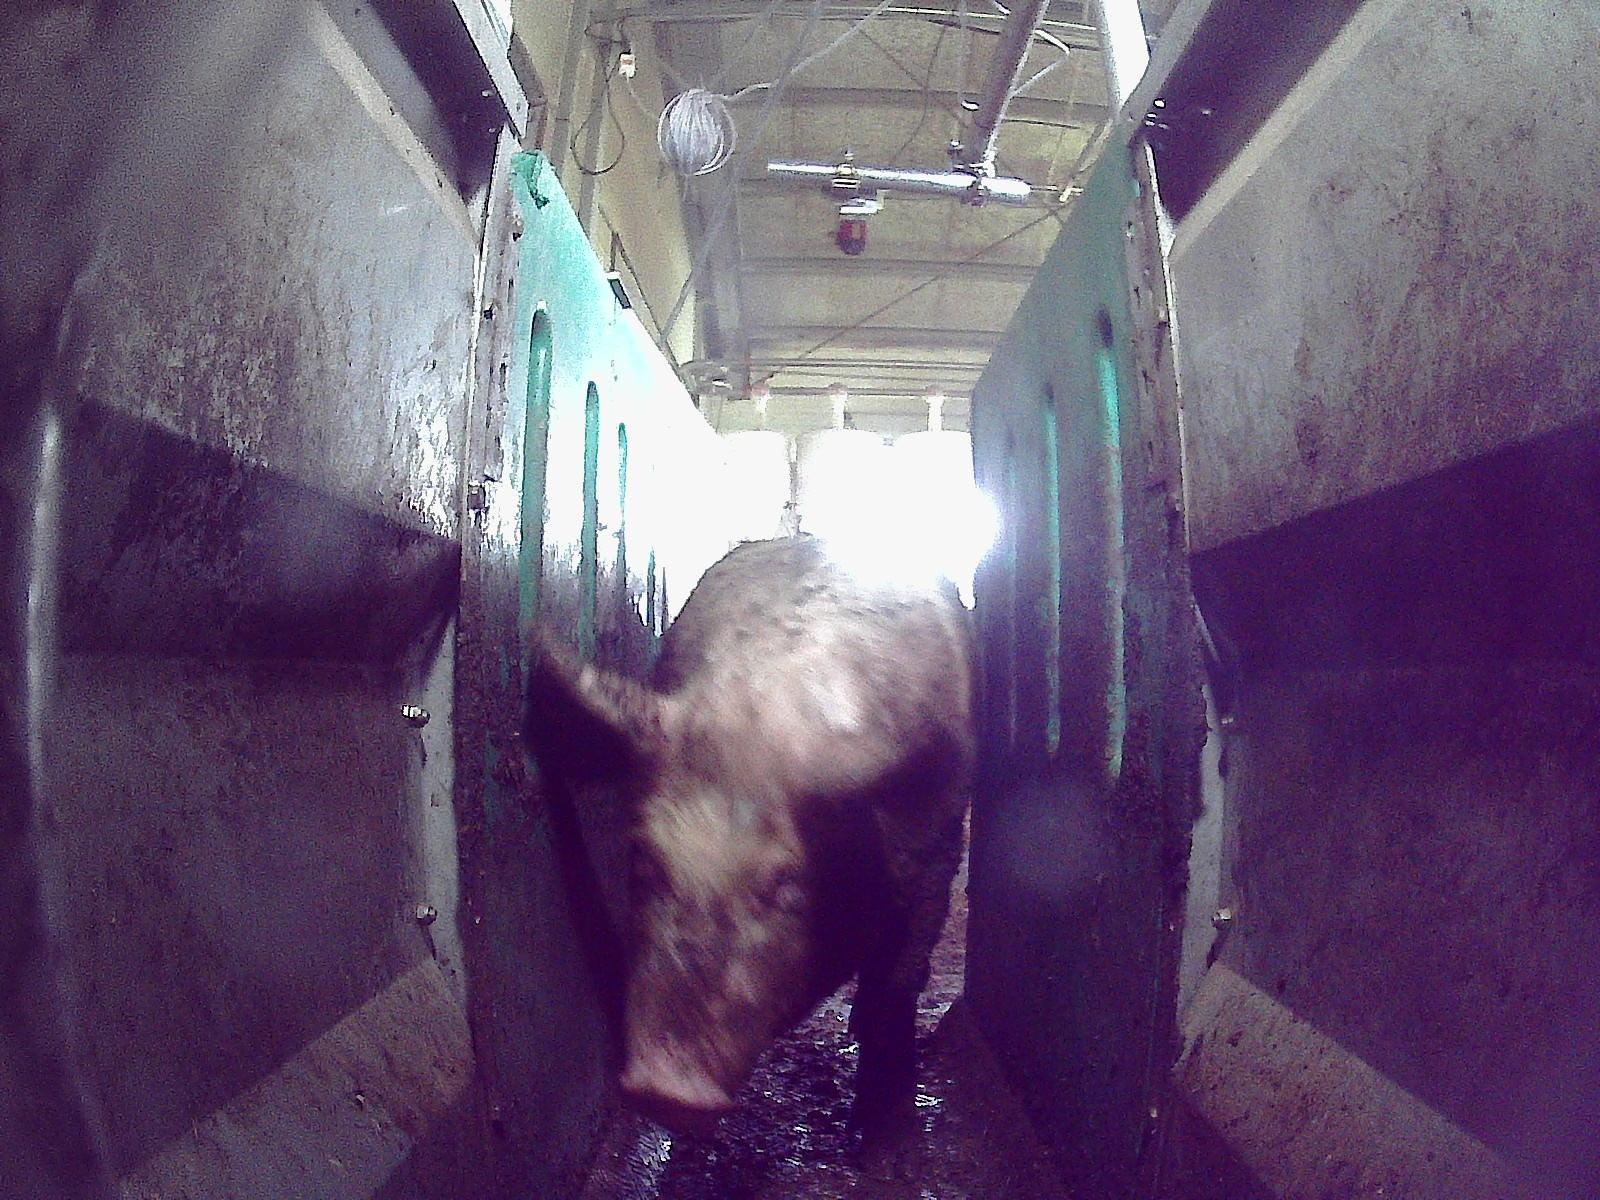Face: (617, 748, 860, 1132)
